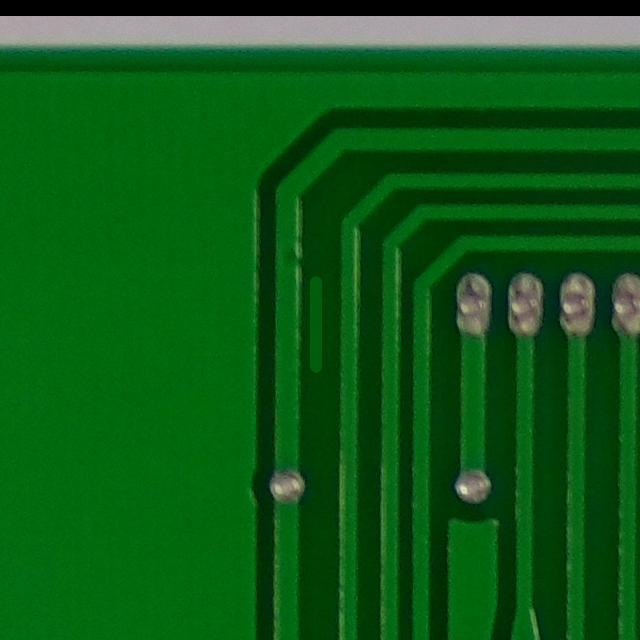spurious_copper: (295, 264, 346, 375)
